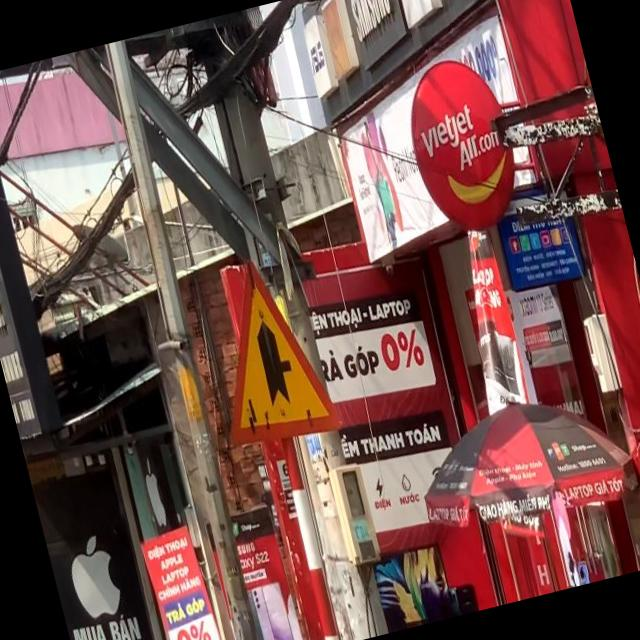W-207b: (186, 240, 343, 458)
